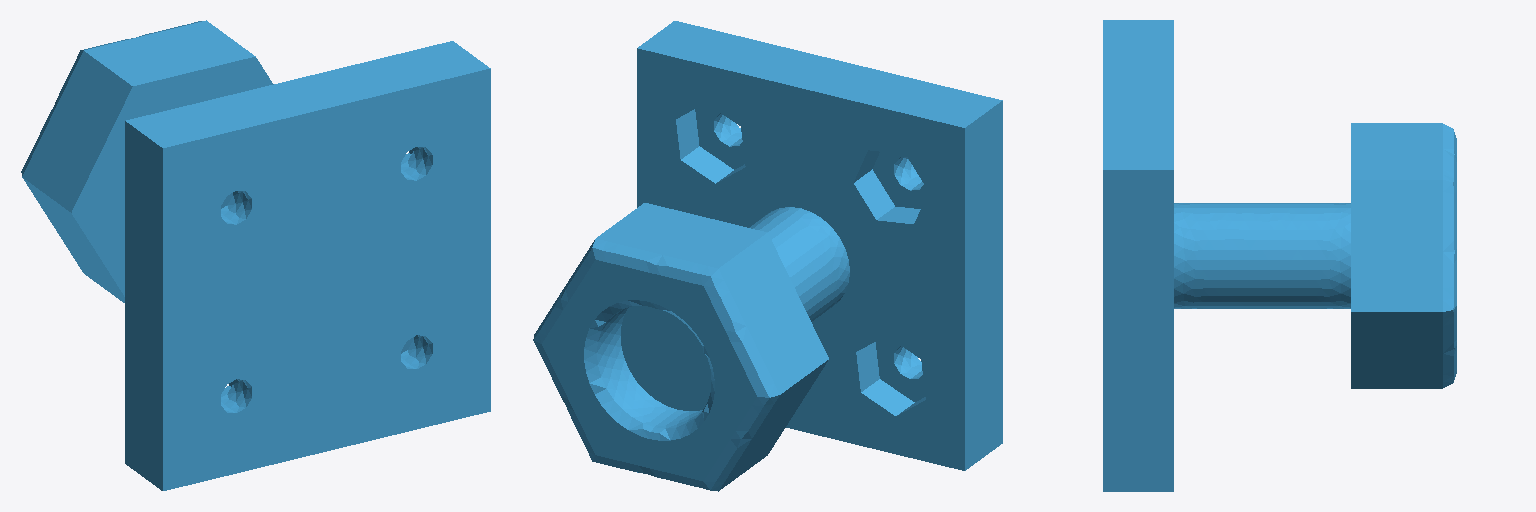
URDF robot description (nut):
<?xml version="1.0"?>

<robot name="nut">
	<link name="world">
        </link>

        <joint name="world_to_indenter" type="prismatic">
                <parent link="world"/>
                <child link="indenter"/>
                <origin rpy="0.0 0.0 0.0" xyz="0.0 -0.0026 0.0"/>
                <axis xyz="0 1 0"/>
                <dynamics damping="0.0" friction="0.0"/>
                <limit lower="0.0" upper="0.1" velocity="1e9" effort="1e9"/>
        </joint>

	<link name="indenter">
		<visual>
			<origin rpy="0.0 0.0 0.0" xyz="0.0 0.0 0.0"/>
			<geometry>
				<mesh filename="../meshes/nut_0.2.stl" scale="0.001 0.001 0.001"/>
			</geometry>
		</visual>
		<collision>
			<origin rpy="0.0 0.0 0.0" xyz="0.0 0.0 0.0"/>
			<geometry>
				<mesh filename="../meshes/nut_0.2.stl" scale="0.001 0.001 0.001"/>
			</geometry>
		</collision>
		<!-- <inertial>
			<origin rpy="0.0 0.0 0.0" xyz="0.0 -14.0636e-3 0.0"/>
			<mass value="0.00075752"/>
			<inertia ixx="2.03201e-8" iyy="1.24370e-8" izz="1.90589e-8" ixy="0.0" ixz="-1.96737e-15" iyz="0.0"/>
		</inertial> -->
	</link>
</robot>

--- Render facts (derived) ---
Views: 3 orthographic renders of the robot side by side, from view 1: azimuth 30°, elevation 25°; view 2: azimuth 150°, elevation 25°; view 3: azimuth 270°, elevation 25°.
Robot: nut — 2 links, 1 joints (1 prismatic); root link world; default pose: every joint at zero.
Visible links, largest first — view 1: indenter; view 2: indenter; view 3: indenter.
Boxes of the visible links, <box> form: indenter: <box>21,20,490,490</box>; indenter: <box>533,21,1002,491</box>; indenter: <box>1103,20,1456,491</box>.
Size in the robot's own frame: 0.02 by 0.02 by 0.02 metres.
1 mesh visuals loaded from 1 distinct referenced files (1 ASCII STL).
